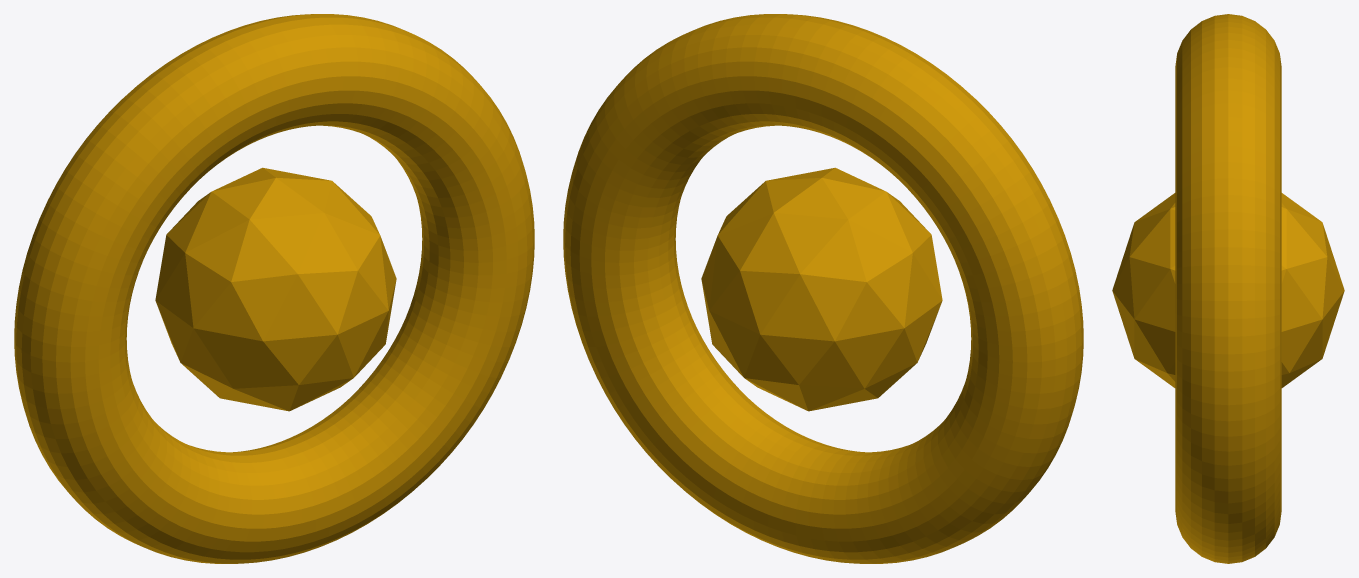
Rendered from Stranded_Waypoint.obj.
3 renders of one model, left to right at view 1: azimuth 30°, elevation 25°; view 2: azimuth 150°, elevation 25°; view 3: azimuth 270°, elevation 25°, orthographic. The views are drawn at different scales.
Visible parts, largest first — view 1: Icosphere_base; view 2: Icosphere_base; view 3: Icosphere_base.
Part boxes in pixels (<box>): Icosphere_base: <box>14,14,534,563</box>; Icosphere_base: <box>563,14,1083,563</box>; Icosphere_base: <box>1112,14,1344,563</box>.
Bounding box in the file's own units: 1.83 × 1.83 × 0.7733.
